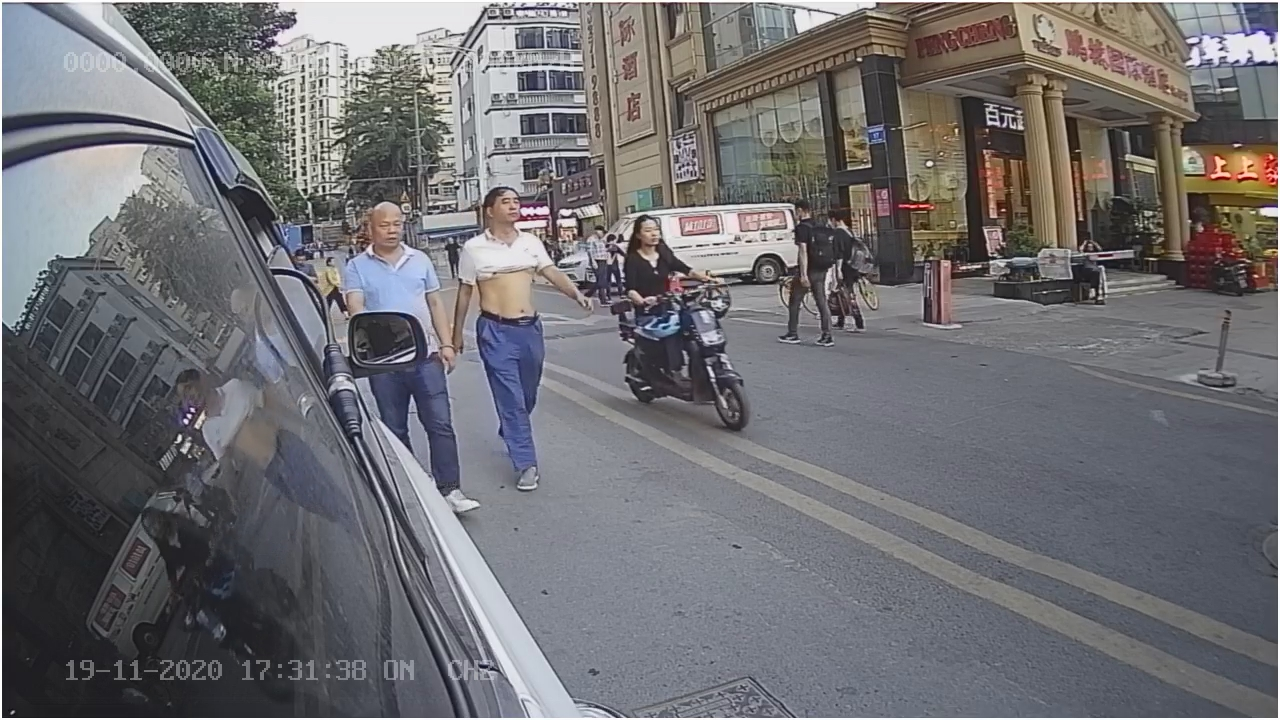person: (460, 182, 568, 487), (613, 208, 707, 296)
